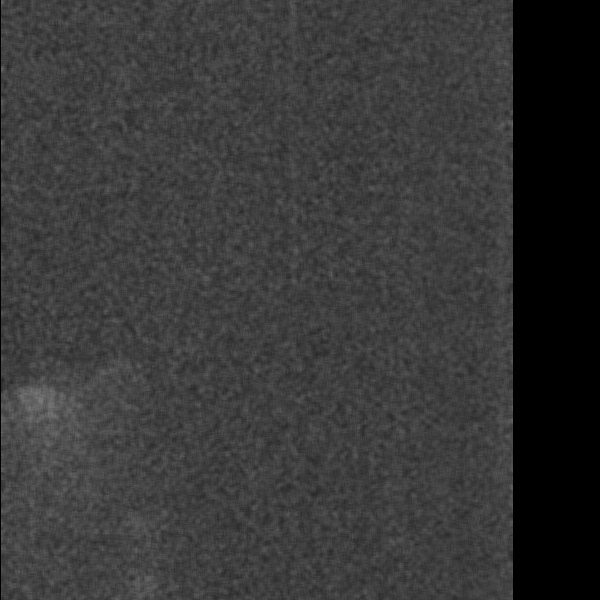spark: (22, 377, 45, 437)
